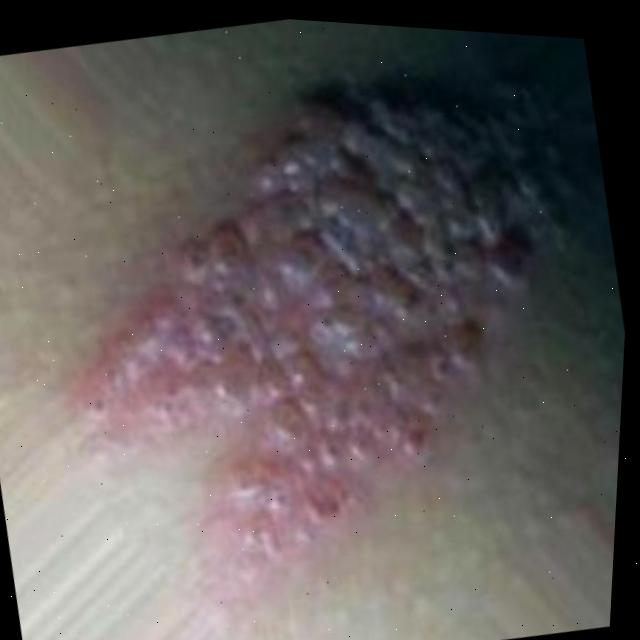Shingles: (12, 18, 639, 619)
